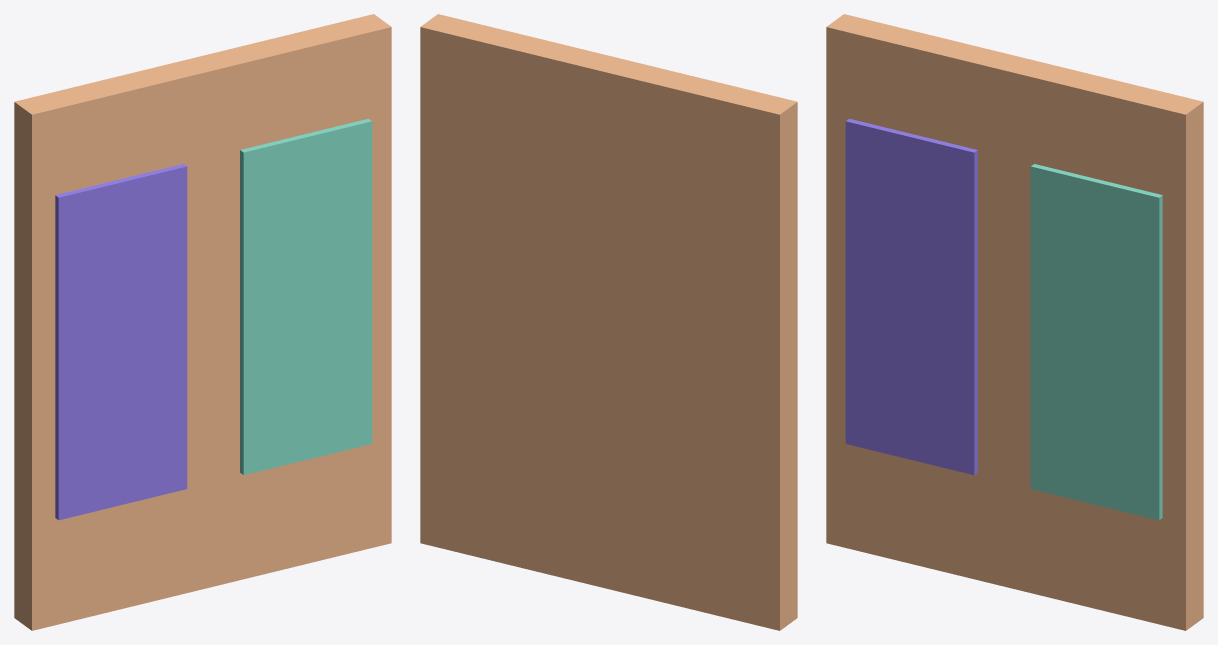
The picture shows the model from 3 angles, left to right: view 1: azimuth 30°, elevation 25°; view 2: azimuth 150°, elevation 25°; view 3: azimuth 330°, elevation 25°; orthographic projection.
Parts seen in each view (by area): view 1: Design board, Sample panel, Sample panel.001; view 2: Design board; view 3: Design board, Sample panel.001, Sample panel.
Boxes of the visible parts, left/top/right/bottom form: Design board: left=14, top=14, right=391, bottom=630; Sample panel: left=55, top=164, right=187, bottom=520; Sample panel.001: left=240, top=118, right=372, bottom=474; Design board: left=420, top=14, right=797, bottom=630; Design board: left=826, top=14, right=1203, bottom=630; Sample panel.001: left=1030, top=164, right=1162, bottom=520; Sample panel: left=845, top=118, right=977, bottom=474.
Bounding box in the file's own units: 70 × 96 × 7.2.
